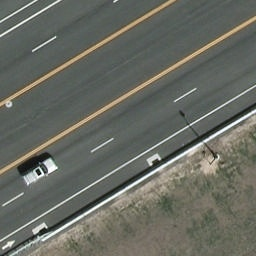car: (22, 157, 59, 186)
